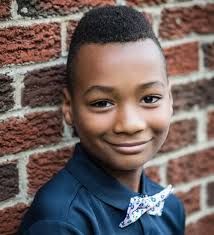person: (61, 8, 174, 172)
